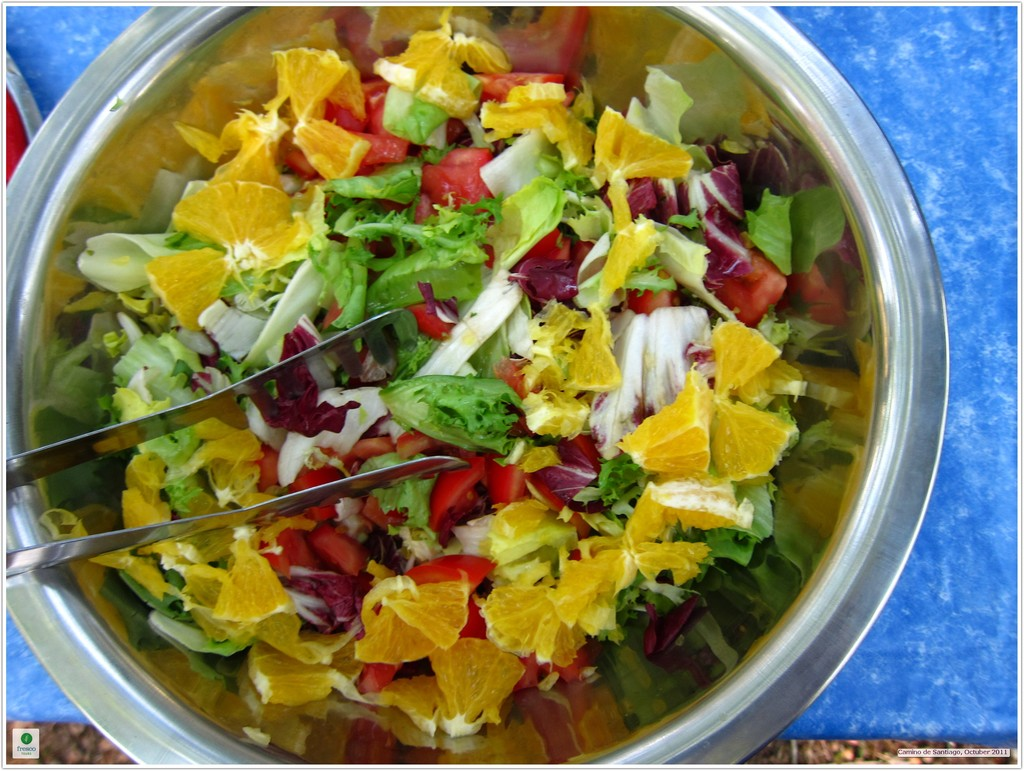salad: (0, 0, 877, 748)
